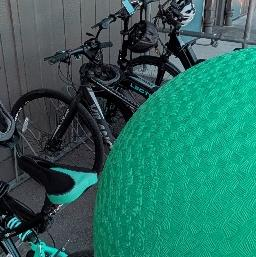algae: (95, 46, 256, 257)
